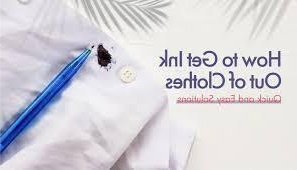ink: (97, 45, 111, 68)
